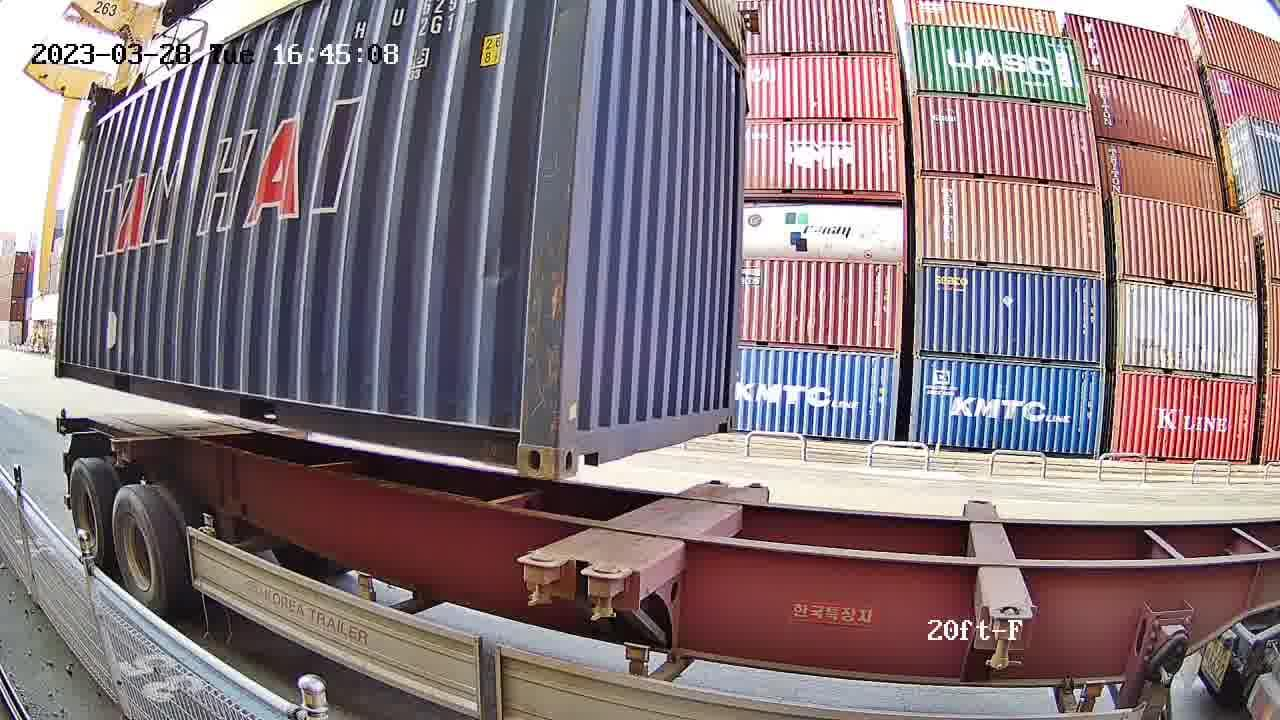Chassis: (587, 484, 767, 606), (518, 480, 728, 569)
Cone: (581, 562, 634, 623), (518, 551, 573, 607)
Hole_L: (552, 392, 608, 479)
Hole_R: (480, 389, 559, 478), (711, 397, 738, 434)
Tire: (112, 487, 166, 614), (67, 459, 109, 572)
